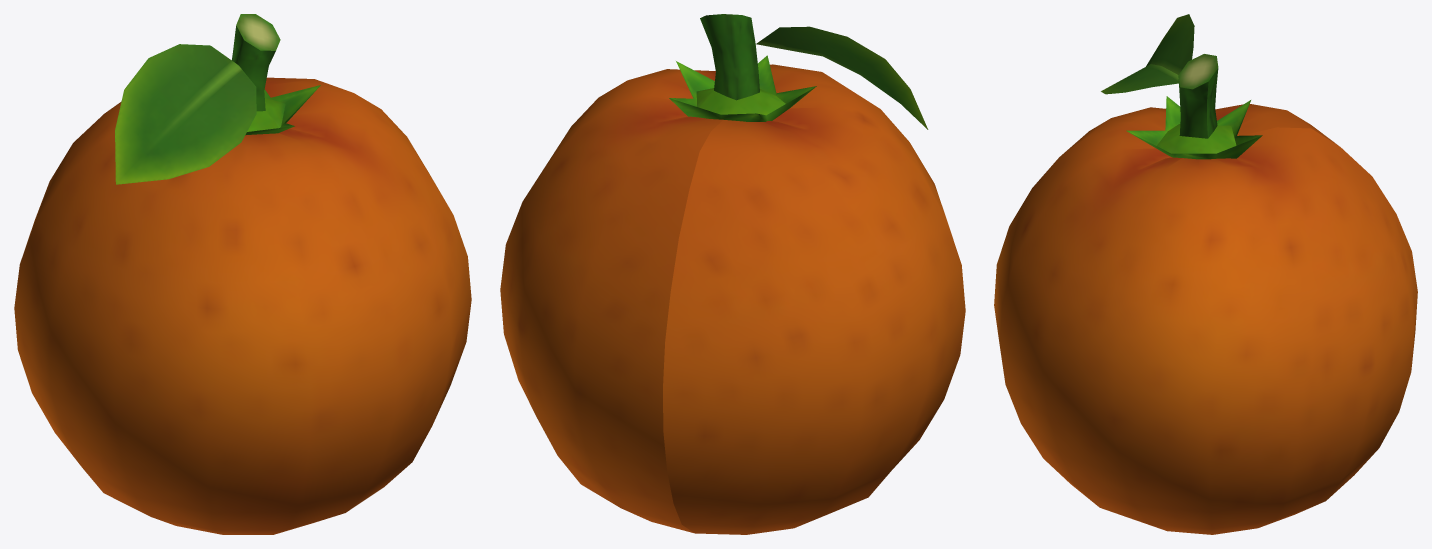
Rendered from orange.glb.
The picture shows the model from 3 angles, left to right: view 1: azimuth 30°, elevation 25°; view 2: azimuth 150°, elevation 25°; view 3: azimuth 270°, elevation 25°; orthographic projection. The views are drawn at different scales.
Visible parts, largest first — view 1: Heta1__mPltFruitOrange02; view 2: Heta1__mPltFruitOrange02; view 3: Heta1__mPltFruitOrange02.
Part boxes in pixels (box(x1,y1,x2,y2)): Heta1__mPltFruitOrange02: box(14, 14, 471, 534); Heta1__mPltFruitOrange02: box(500, 14, 965, 534); Heta1__mPltFruitOrange02: box(994, 14, 1417, 534).
Bounding box in the file's own units: 0.8266 × 0.977 × 0.8187.
Materials: 1 (1 with a texture image).
